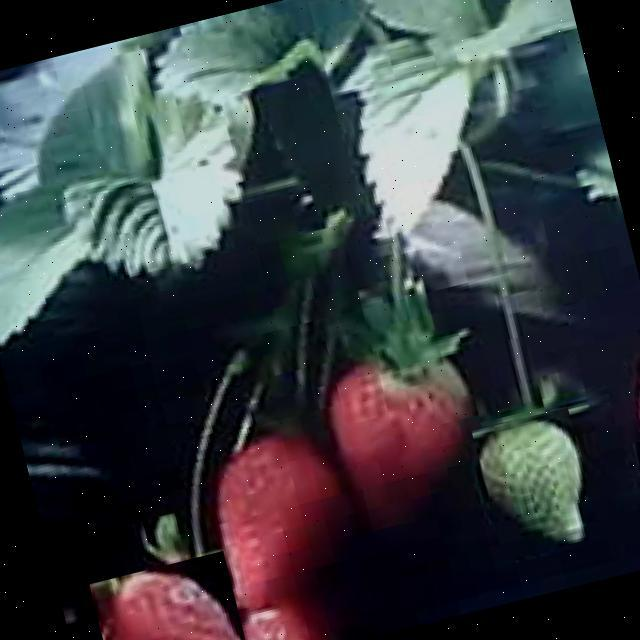ripe: (324, 348, 496, 538), (199, 423, 361, 608), (89, 550, 252, 640)
unripe: (472, 407, 600, 560)
